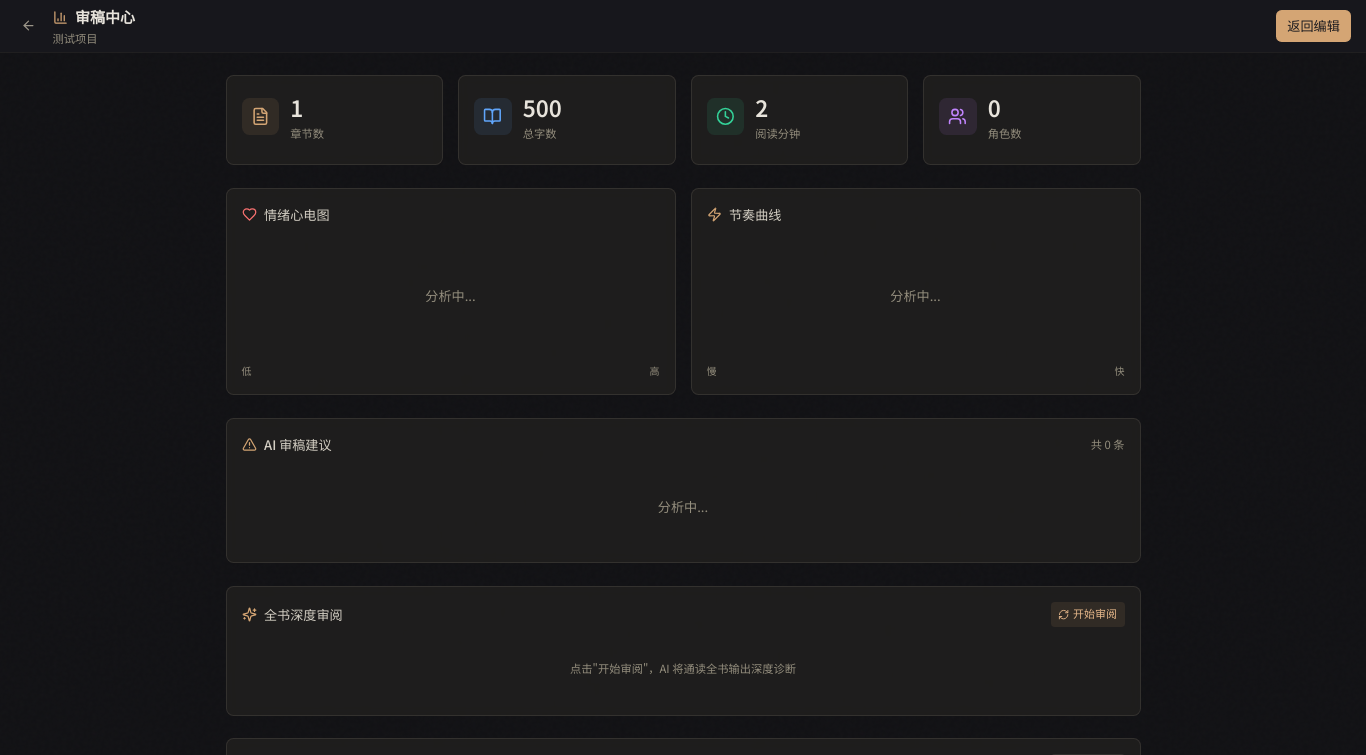
Test: ReviewPage › 审阅完成后按钮文案变为"重新审阅"
Click the button "开始审阅" at [1088, 614], box x1=1050 y1=602 x2=1124 y2=627
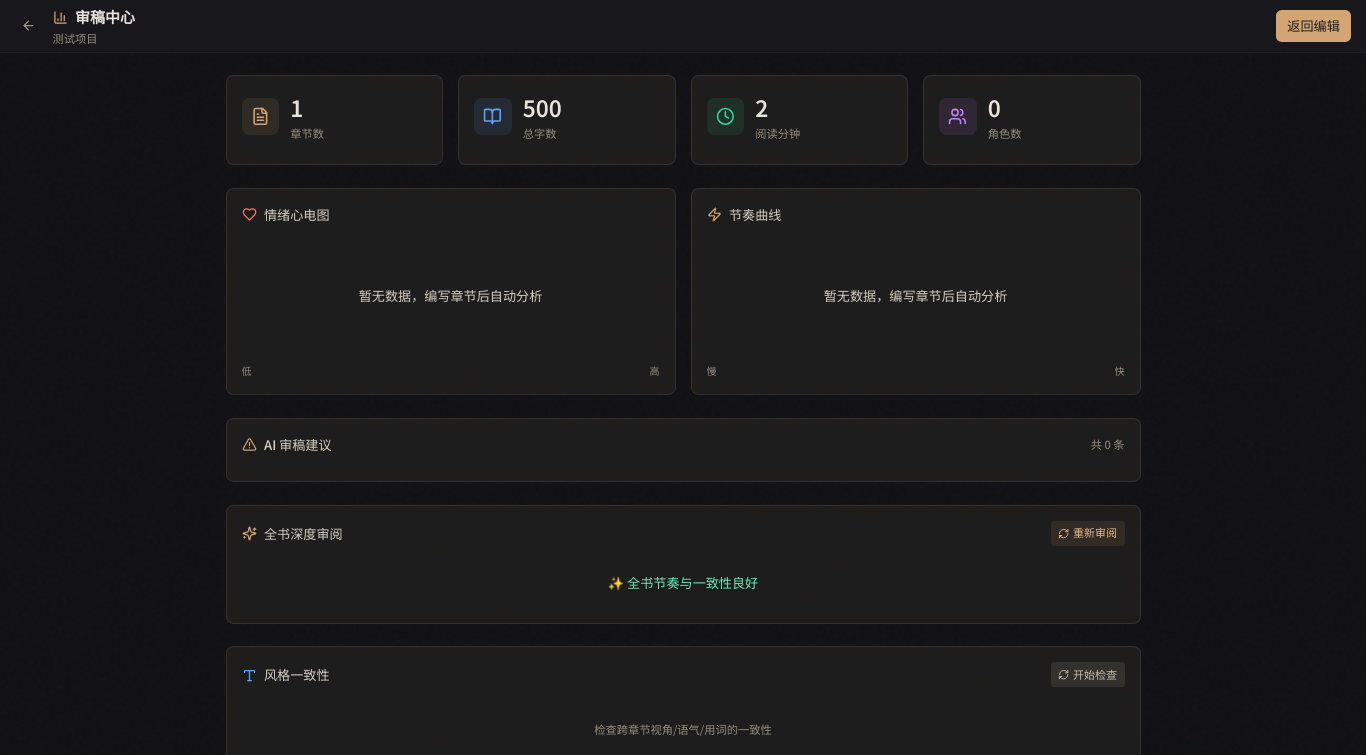
Check: the button "重新审阅" is shown, box x1=1050 y1=521 x2=1124 y2=546
